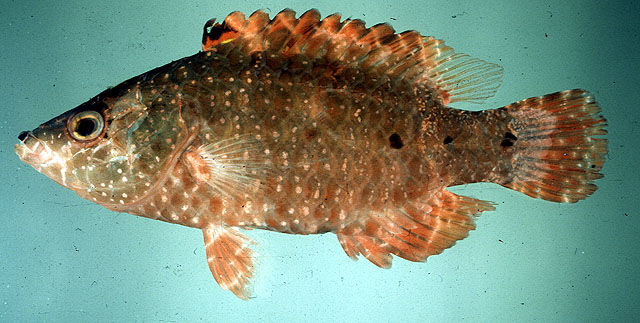fish: (15, 7, 609, 300)
